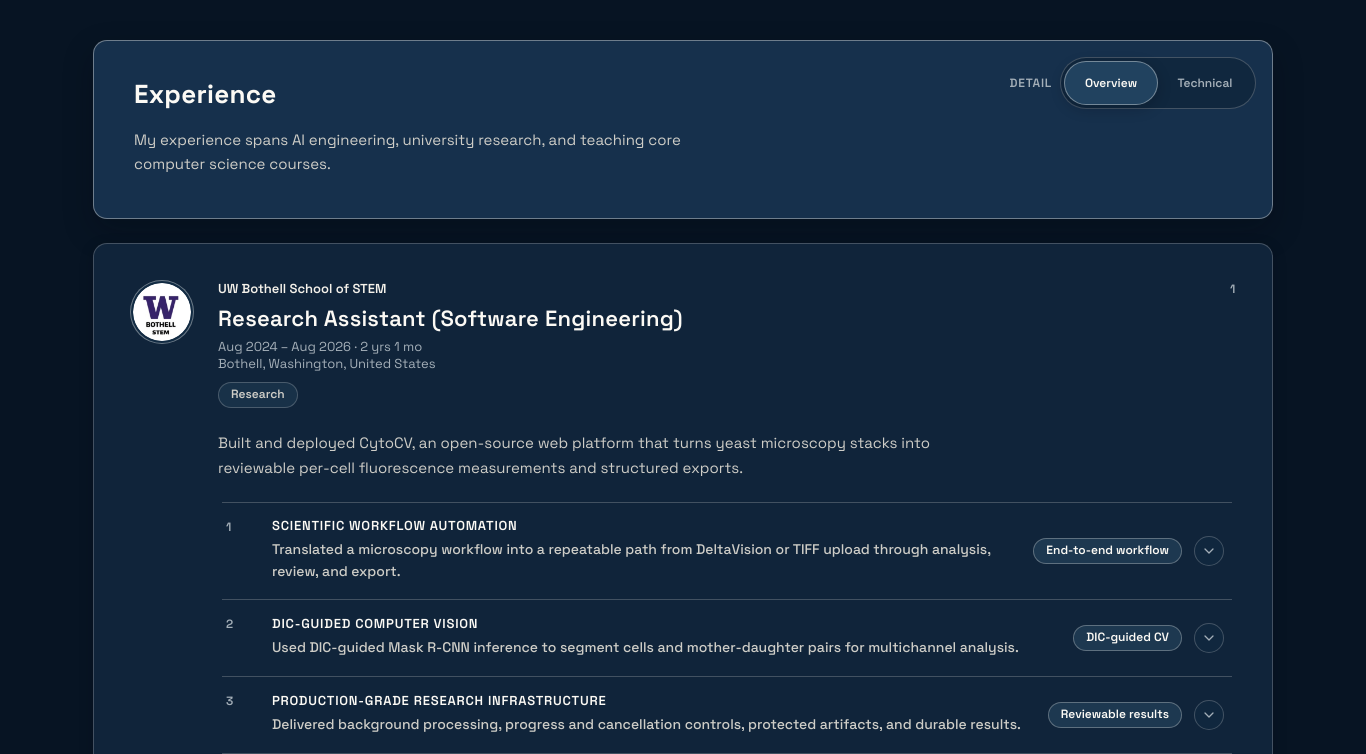
Scenario: ExperienceShowcase › closes through document Escape and restores focus without consuming a handled Escape
The width and height of the screenshot is (1366, 754).
Click the button "Scientific Workflow Automation".
click(727, 551)  # box 218,503 -> 1236,599
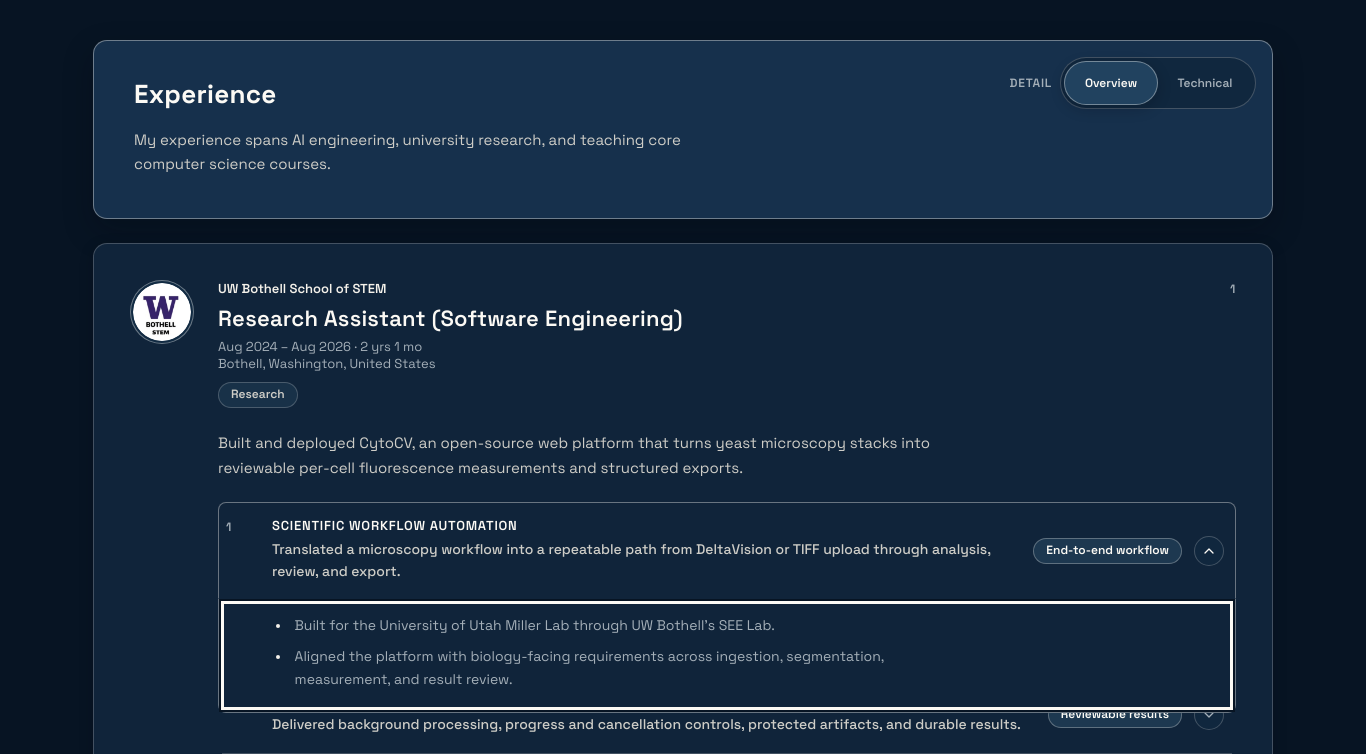
Now the element with class "detail-section__panel-scroll" is shown, box 219,598 -> 1235,712
Press Escape
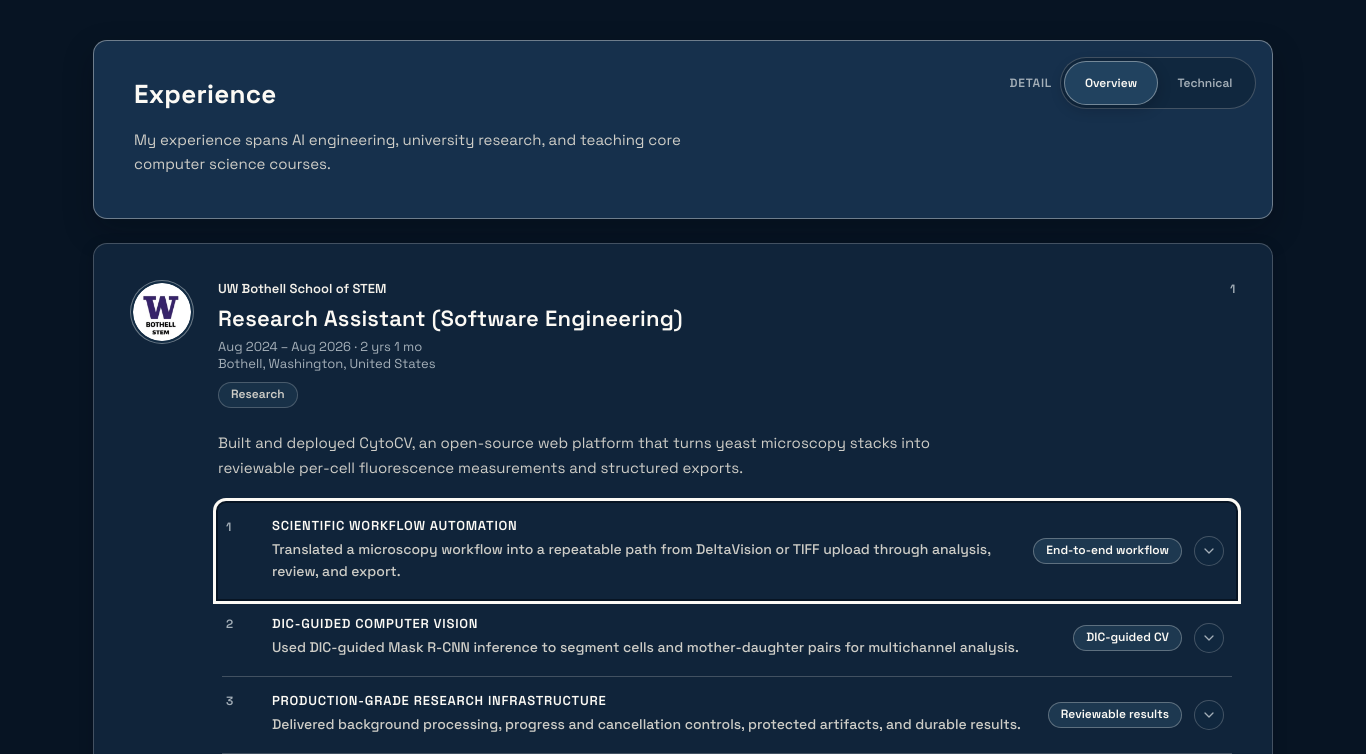
Now the button "Scientific Workflow Automation" is collapsed
Click the button "Scientific Workflow Automation".
click(727, 551)  # box 218,503 -> 1236,599
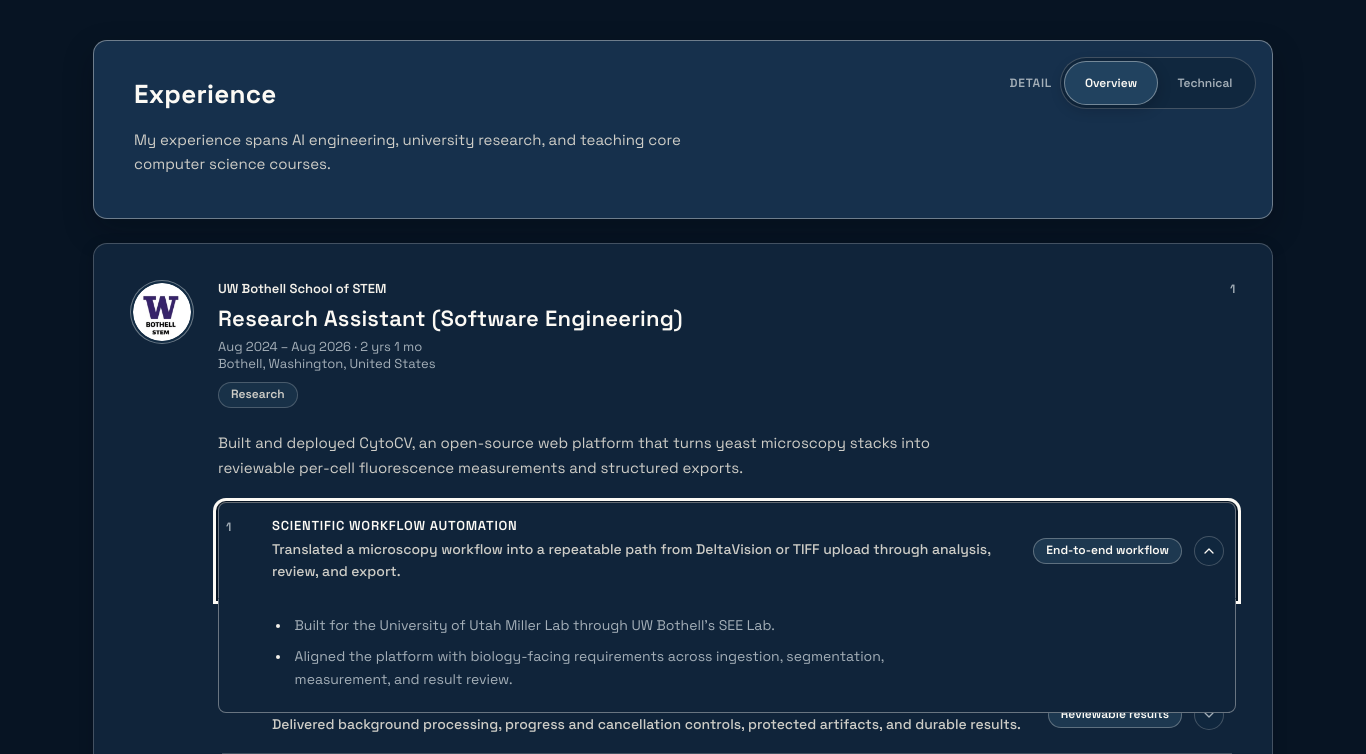
Now the button "Scientific Workflow Automation" is expanded, box 218,503 -> 1236,599
